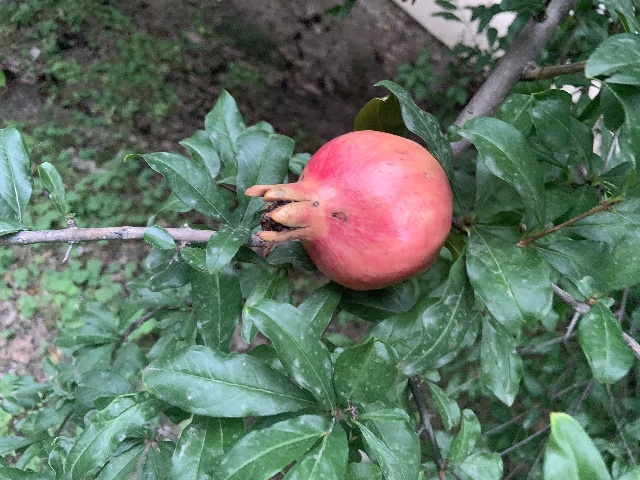ripe: (246, 130, 453, 290)
